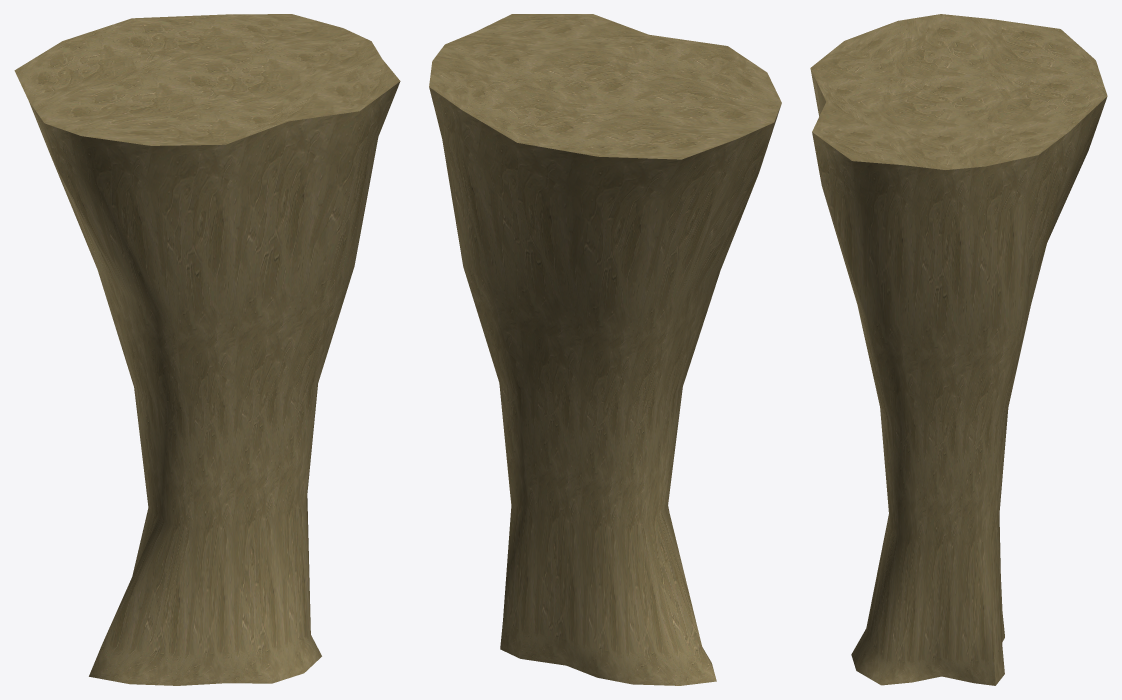
The model's file is SB_PLATFORMA.fbx.
3 views of the same model, side by side, from view 1: azimuth 30°, elevation 25°; view 2: azimuth 150°, elevation 25°; view 3: azimuth 270°, elevation 25° (orthographic). The views are drawn at different scales.
Visible parts, largest first — view 1: SB_PLATFORMA; view 2: SB_PLATFORMA; view 3: SB_PLATFORMA.
Boxes of the visible parts, x1,y1,x2,y2 form: SB_PLATFORMA: (14,14,400,685); SB_PLATFORMA: (429,14,781,685); SB_PLATFORMA: (810,14,1107,685).
Bounding box in the file's own units: 83656 × 138462 × 67276.
1 material, 1 textured.
